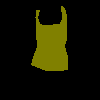canottiera: (30, 6, 68, 70)
